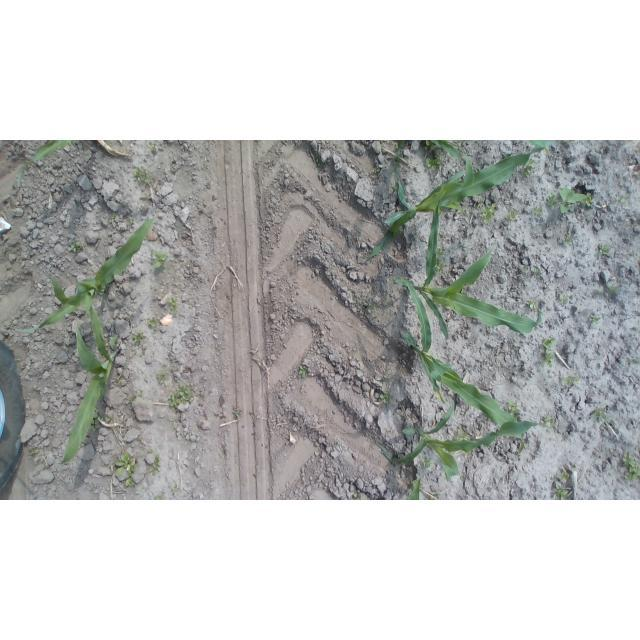Maize: (359, 141, 553, 260), (395, 276, 525, 453), (397, 199, 544, 341), (12, 218, 156, 333), (376, 399, 552, 481), (56, 306, 121, 468), (17, 141, 78, 187), (394, 140, 410, 180), (430, 140, 460, 160), (408, 476, 421, 500), (530, 140, 548, 156)
Weeds: (557, 187, 587, 213), (115, 452, 135, 489), (168, 384, 194, 408), (585, 408, 615, 428), (621, 453, 640, 482), (539, 337, 557, 367), (150, 249, 168, 269), (133, 165, 152, 183), (481, 203, 495, 226), (427, 153, 442, 171), (558, 375, 582, 386), (150, 454, 162, 476), (554, 484, 569, 500), (310, 150, 322, 169), (169, 296, 180, 314), (454, 429, 470, 440), (547, 194, 558, 209), (380, 390, 391, 405), (507, 399, 517, 415), (71, 239, 83, 252), (559, 293, 570, 307), (145, 317, 159, 328), (598, 243, 610, 255), (590, 315, 603, 326), (557, 472, 570, 483), (156, 370, 167, 383), (299, 365, 309, 379), (98, 412, 112, 422), (134, 330, 144, 344), (504, 210, 516, 221), (436, 260, 446, 273), (586, 192, 594, 208), (616, 194, 630, 203), (607, 286, 618, 297), (520, 168, 532, 178), (542, 415, 554, 425), (421, 457, 431, 469), (29, 446, 39, 458), (171, 482, 179, 496), (91, 419, 99, 433), (524, 159, 535, 169), (527, 299, 538, 309), (437, 246, 446, 258), (627, 358, 640, 366), (392, 182, 399, 195), (424, 141, 434, 150), (148, 142, 157, 151), (534, 205, 542, 215), (234, 408, 242, 417), (566, 235, 573, 245), (129, 214, 136, 224), (111, 212, 116, 224), (531, 268, 539, 275), (521, 264, 528, 272), (354, 493, 361, 500), (383, 377, 390, 384), (131, 396, 138, 403), (372, 167, 380, 173), (137, 388, 143, 396), (404, 186, 408, 197), (478, 200, 485, 206), (155, 496, 163, 501), (334, 440, 339, 447), (116, 377, 121, 384), (634, 220, 639, 226), (147, 449, 153, 454), (595, 290, 602, 294), (141, 350, 145, 356)
